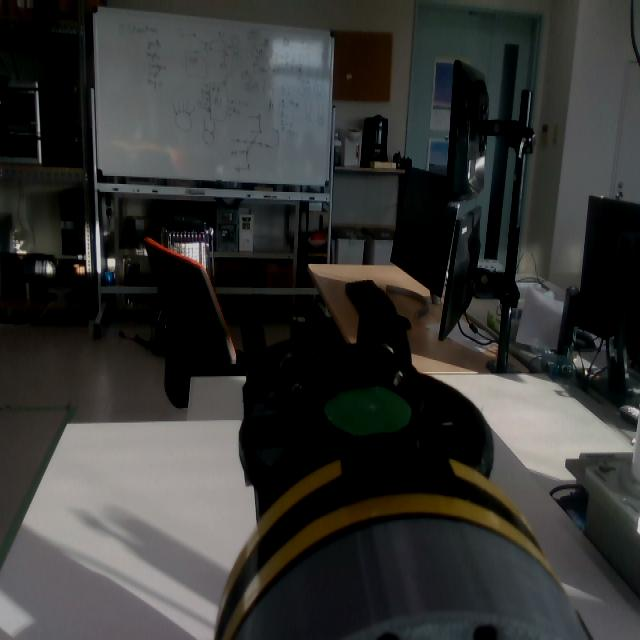body_connector: (235, 516, 594, 640)
connection: (213, 452, 589, 640)
leg: (212, 284, 555, 640)
leg_connector: (221, 446, 556, 636)
marker: (324, 389, 410, 437)
